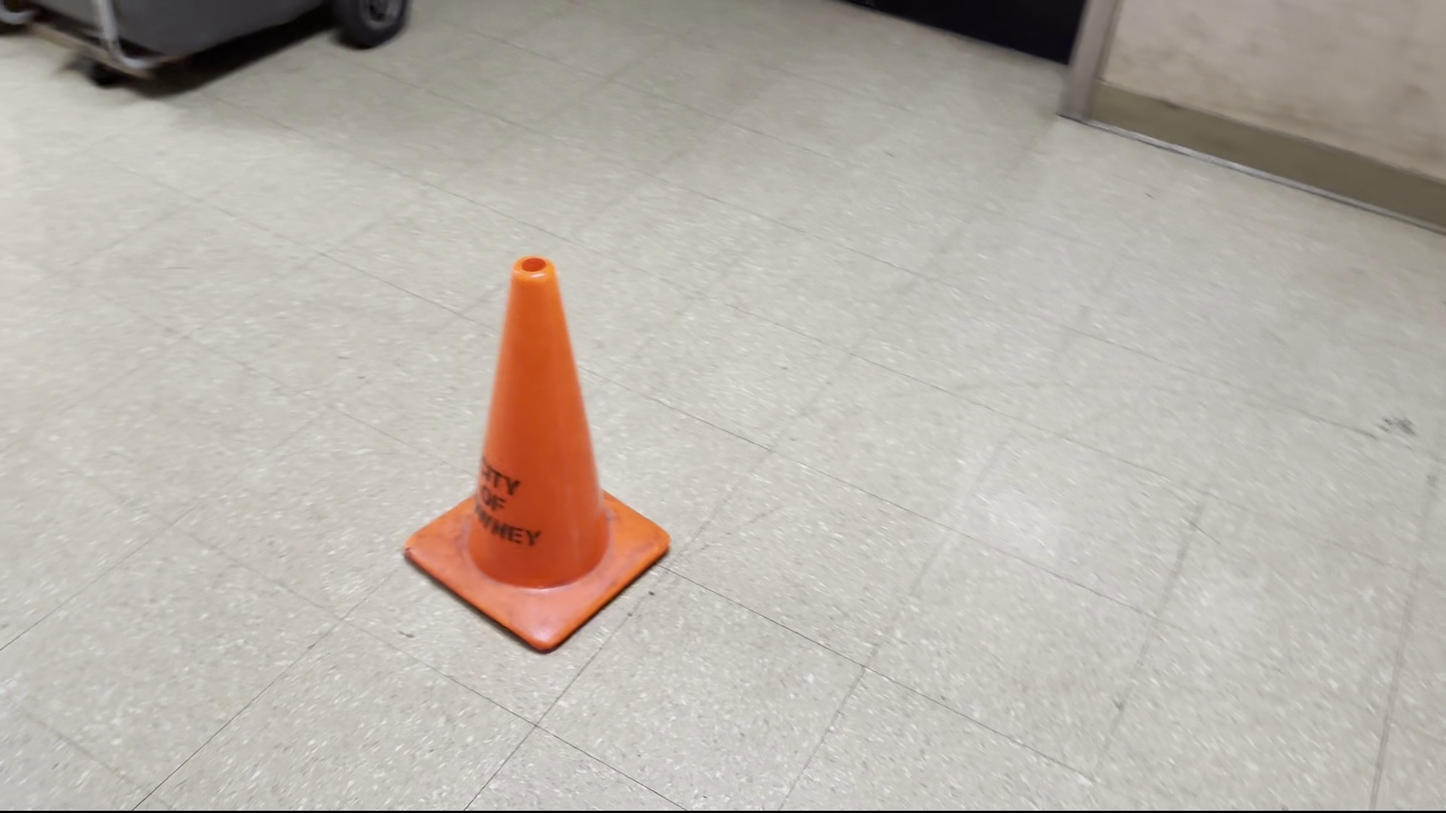traffic_cone: (402, 254, 672, 654)
